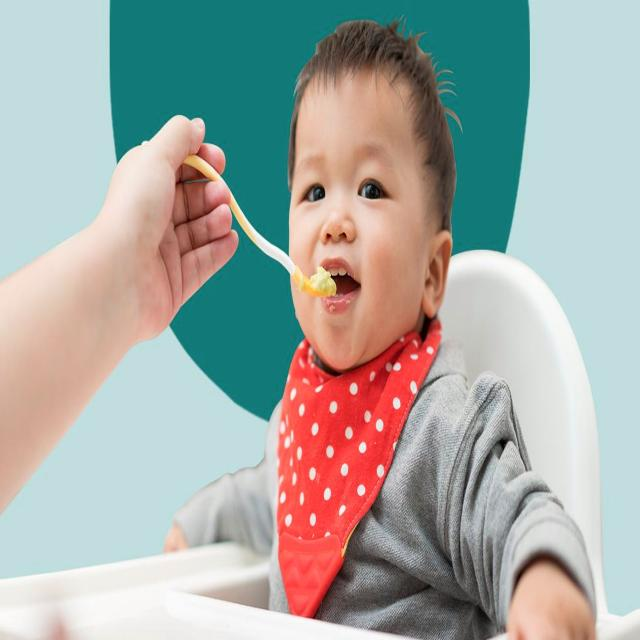child: (0, 23, 602, 640)
